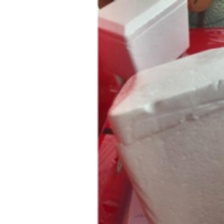foam_box: (104, 41, 224, 224), (98, 0, 194, 83)
